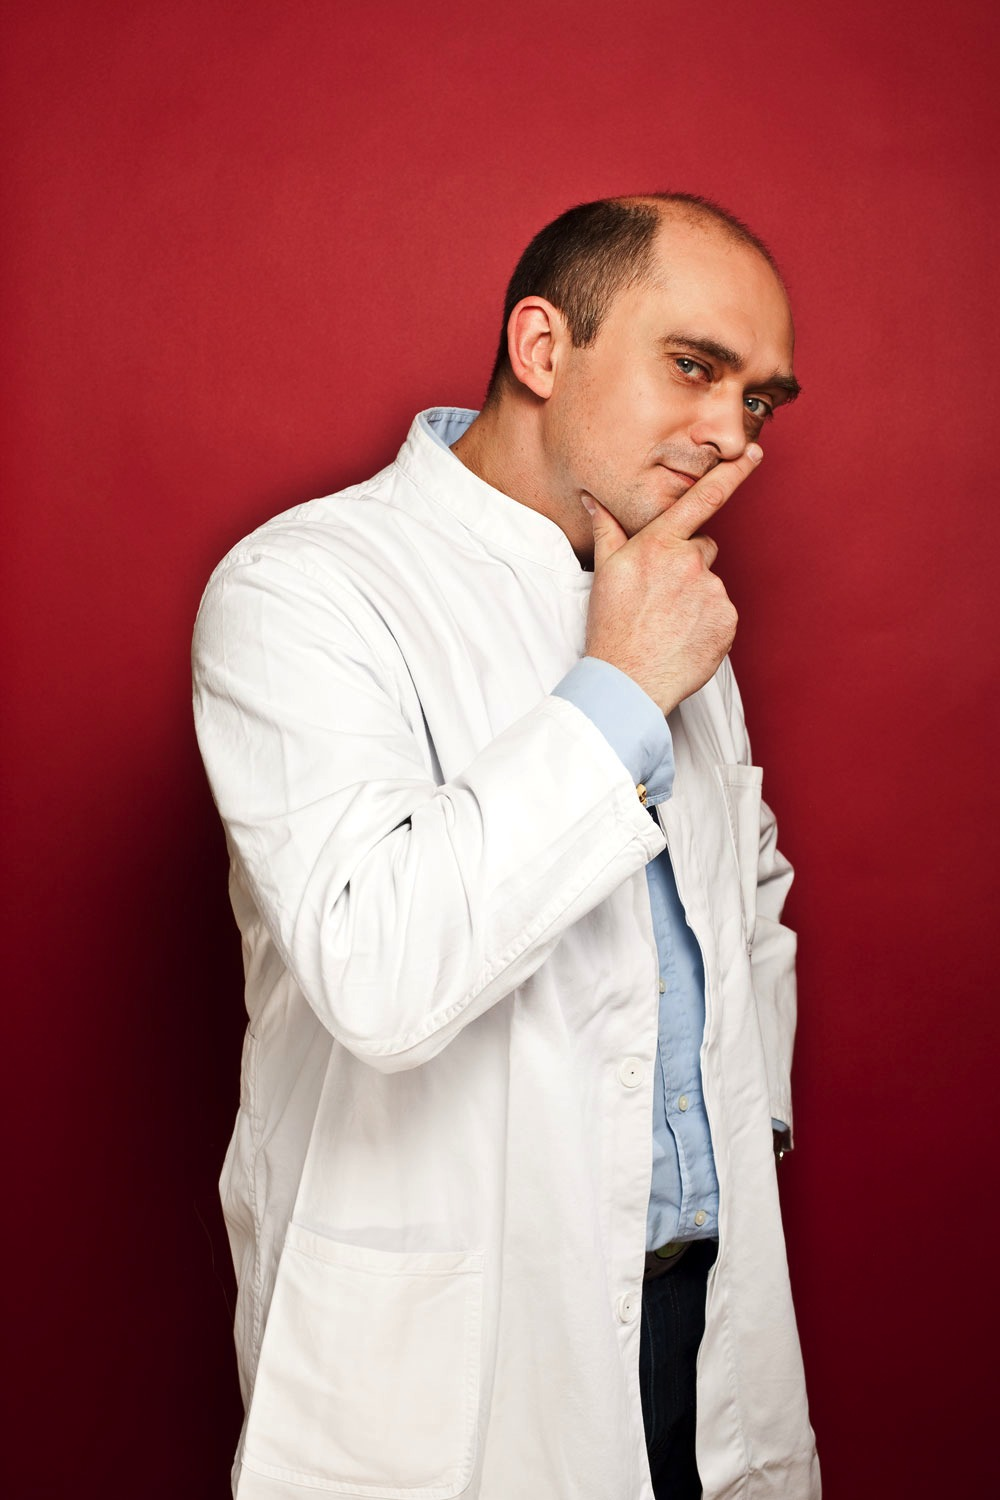human: (155, 183, 888, 1500)
